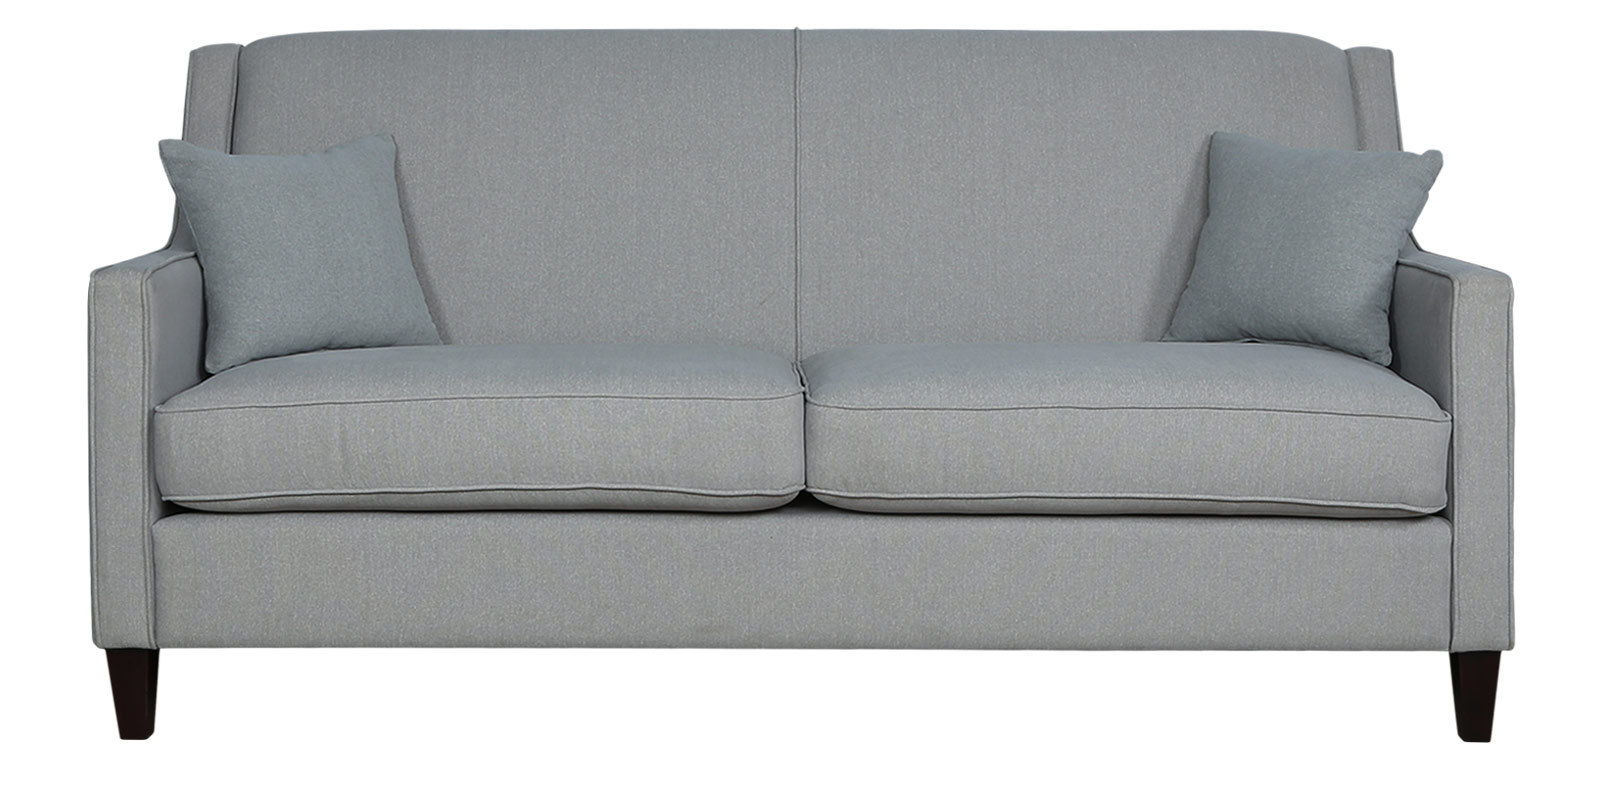Oscar Three Seater Sofa in Ash Grey Colour by CasaCraft: (87, 26, 1518, 742)
